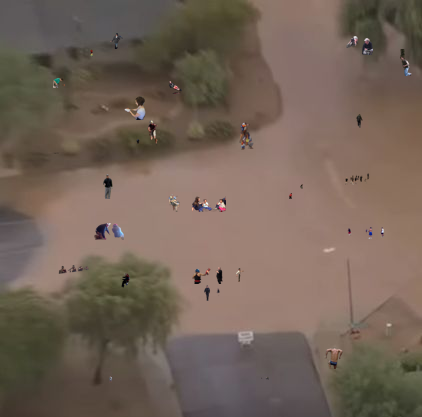Human: (192, 196, 226, 212), (237, 122, 256, 150), (124, 96, 146, 120), (192, 267, 223, 284), (147, 120, 164, 151), (346, 36, 373, 55), (94, 223, 124, 240), (347, 227, 389, 239), (324, 347, 343, 369), (399, 49, 412, 76), (57, 264, 89, 274), (345, 173, 371, 185), (204, 285, 220, 301), (103, 174, 113, 199), (168, 194, 180, 212), (110, 33, 123, 49), (169, 81, 182, 94), (121, 273, 130, 289), (53, 77, 65, 88), (236, 268, 244, 282), (356, 114, 363, 128), (261, 376, 269, 381), (300, 184, 305, 189), (136, 139, 140, 145), (90, 49, 93, 57), (109, 376, 112, 383), (51, 152, 60, 154), (289, 193, 292, 199)
